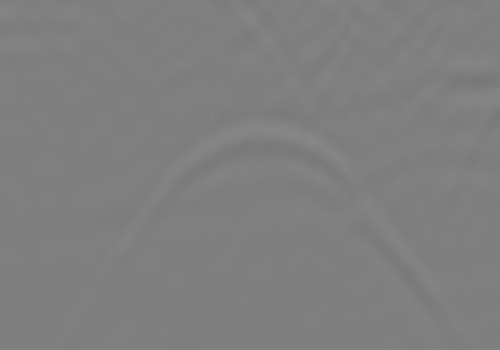hyperbola: (83, 113, 435, 305)
